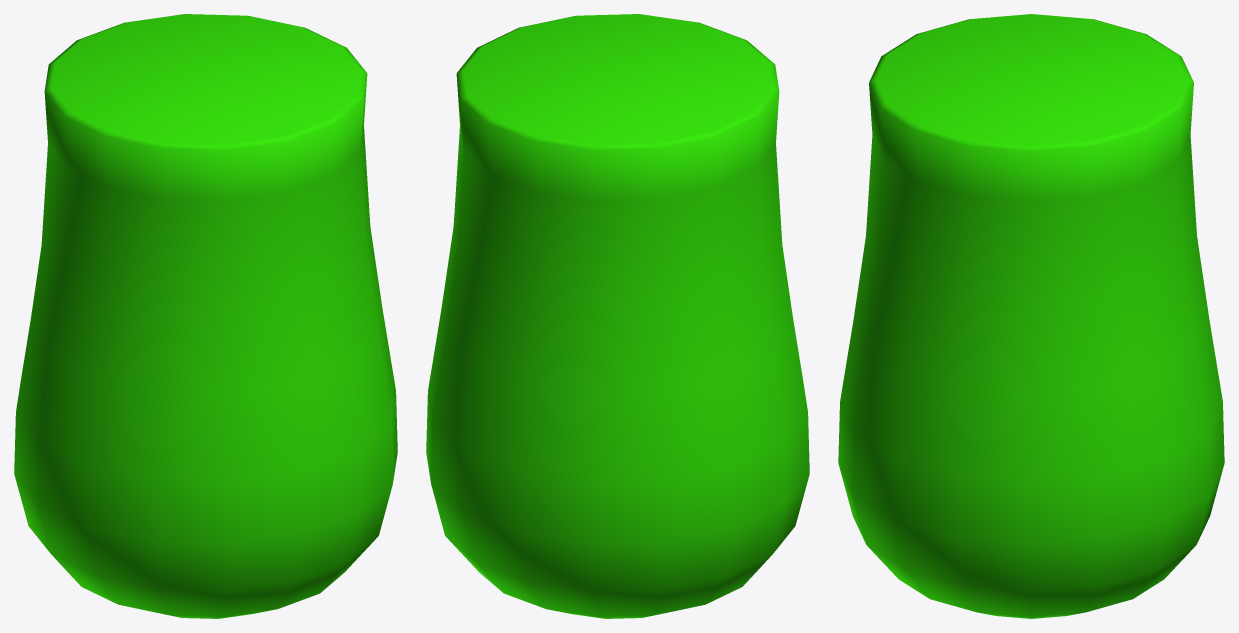
Rendered from Liquid1.fbx.
3 renders of one model, left to right at view 1: azimuth 30°, elevation 25°; view 2: azimuth 150°, elevation 25°; view 3: azimuth 270°, elevation 25°, orthographic.
Visible parts, largest first — view 1: Liquid; view 2: Liquid; view 3: Liquid.
Part boxes in pixels (x1,y1,x2,y2): Liquid: [14, 14, 397, 618]; Liquid: [426, 14, 809, 618]; Liquid: [838, 14, 1224, 618].
Bounding box in the file's own units: 10.68 × 15.75 × 10.68.
